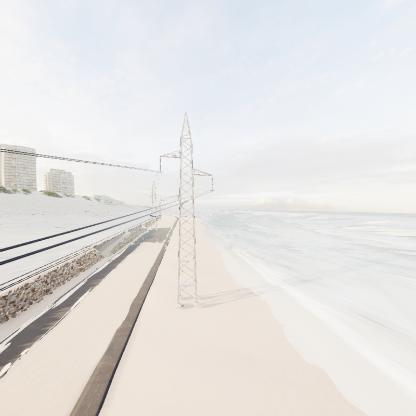tower: (155, 104, 216, 311)
